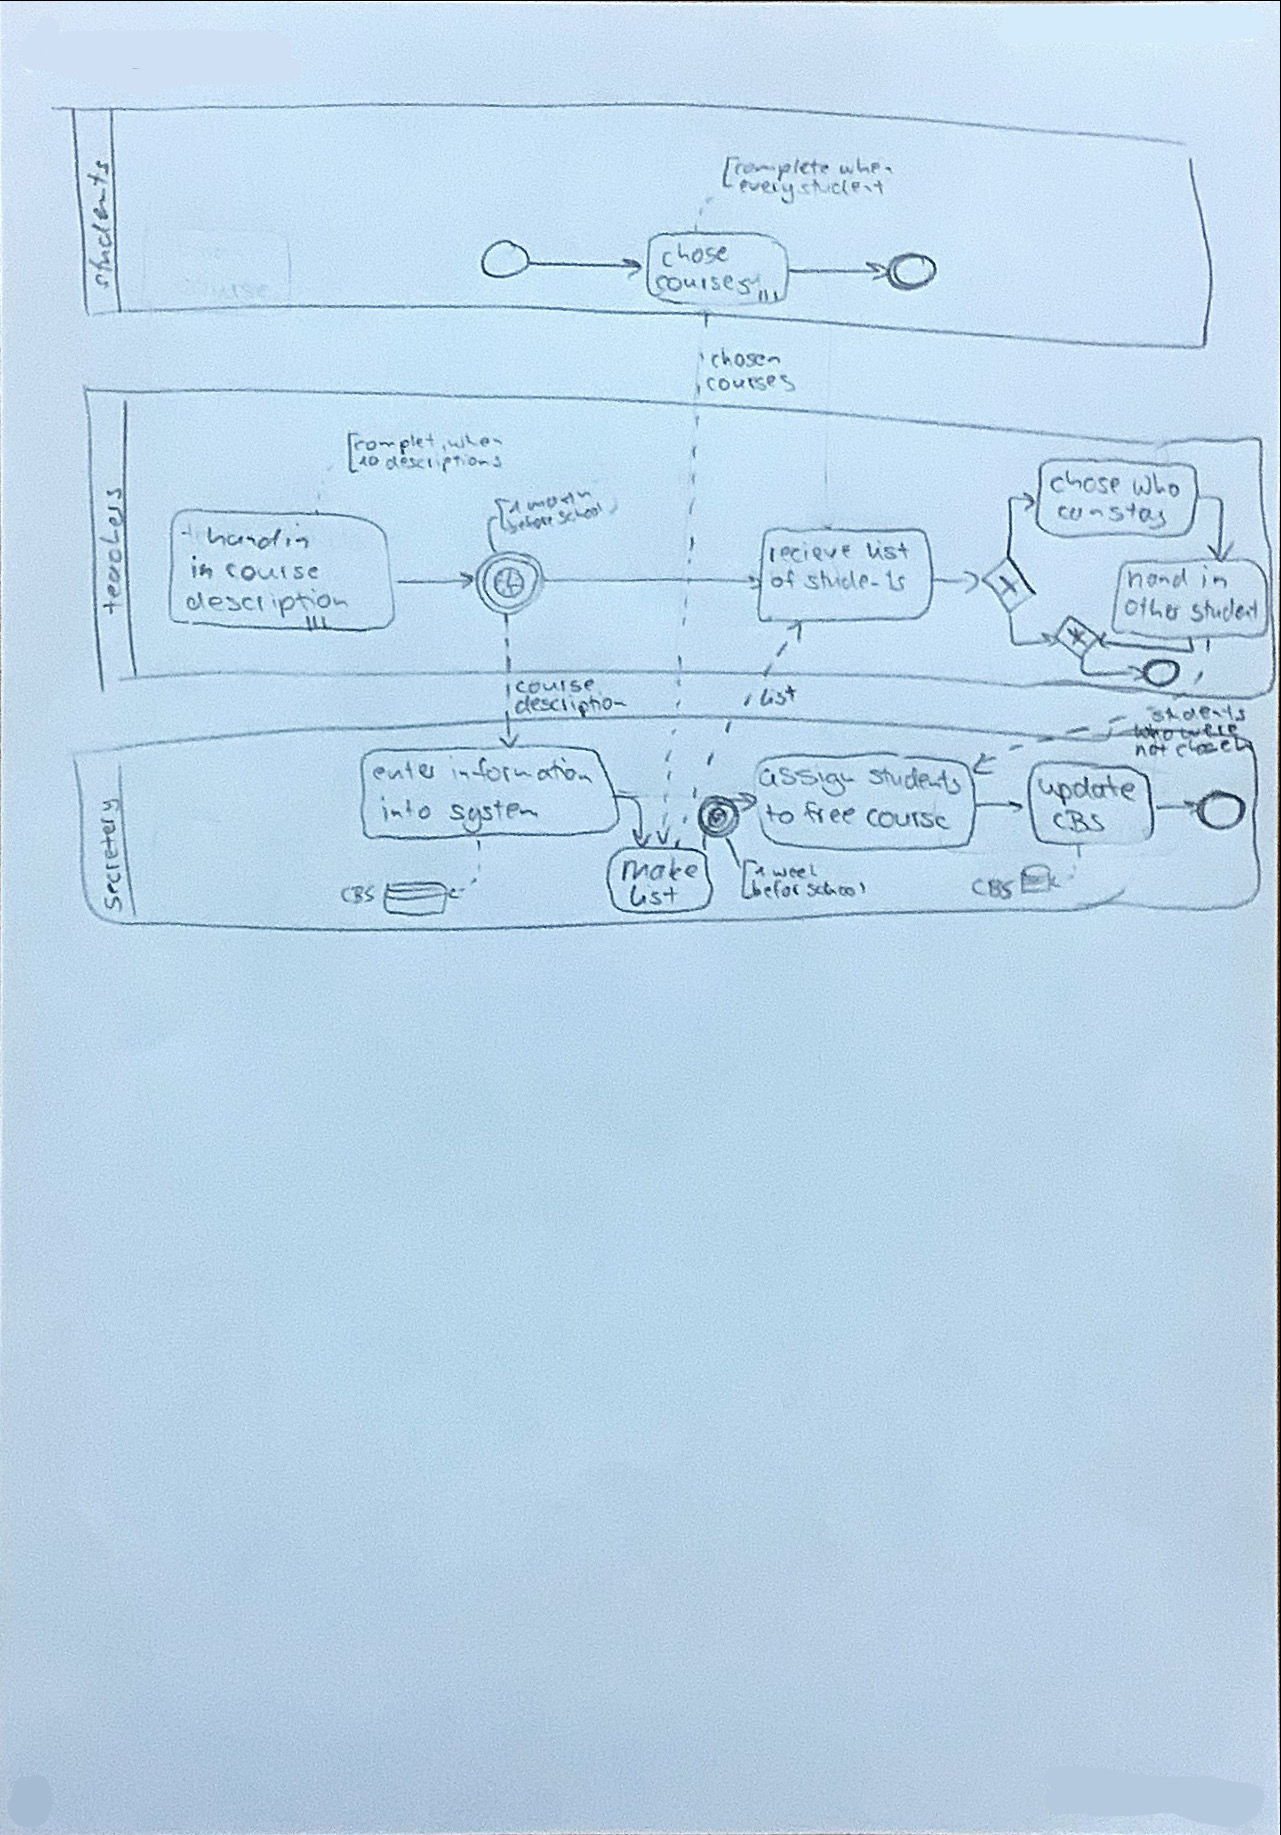1: (751, 860, 770, 881), (506, 495, 521, 515)
10: (355, 452, 379, 475)
CBS: (1051, 809, 1106, 836), (970, 876, 1017, 902), (338, 883, 379, 908)
III: (301, 609, 331, 635), (754, 287, 784, 304)
[complete: (717, 155, 832, 187)
assign: (757, 763, 859, 796)
befor: (748, 879, 802, 902)
before: (507, 514, 552, 538)
choach: (1177, 740, 1256, 759)
chose: (1048, 469, 1124, 500), (662, 243, 730, 269)
chosen: (707, 348, 781, 373)
complet,: (352, 434, 450, 452)
constas: (1050, 497, 1168, 531)
course: (223, 559, 320, 586), (865, 807, 953, 832), (514, 676, 594, 698)
courses: (650, 273, 753, 300), (704, 373, 799, 396)
description: (181, 586, 353, 616), (510, 694, 632, 716)
descriptions: (384, 452, 502, 474)
enter: (370, 759, 441, 781)
every: (737, 177, 796, 208)
free: (802, 802, 860, 831)
hand: (205, 523, 283, 548), (1127, 567, 1188, 593)
in: (1199, 565, 1232, 594), (284, 521, 314, 553), (184, 555, 218, 581)
information: (444, 754, 592, 788)
into: (378, 795, 433, 826)
list: (625, 883, 680, 911), (865, 539, 912, 564), (760, 685, 799, 709)
make: (621, 857, 701, 886)
month: (524, 502, 593, 516)
not: (1131, 739, 1172, 757)
of: (768, 568, 801, 594)
other: (1122, 594, 1184, 624)
recieve: (769, 541, 859, 567)
school: (804, 879, 870, 896), (555, 511, 605, 529)
secretery: (97, 798, 126, 915)
student: (1188, 597, 1263, 625), (797, 177, 887, 199)
students: (85, 158, 116, 290), (867, 766, 964, 798), (804, 569, 908, 594), (1151, 703, 1251, 719)
system: (449, 796, 541, 834)
teachers: (99, 487, 128, 613)
to: (762, 801, 794, 829)
update: (1036, 774, 1141, 806)
week: (773, 860, 825, 882)
were: (1175, 722, 1240, 738)
when: (838, 158, 898, 179), (450, 434, 501, 451)
who: (1130, 473, 1181, 503), (1132, 725, 1172, 742)
